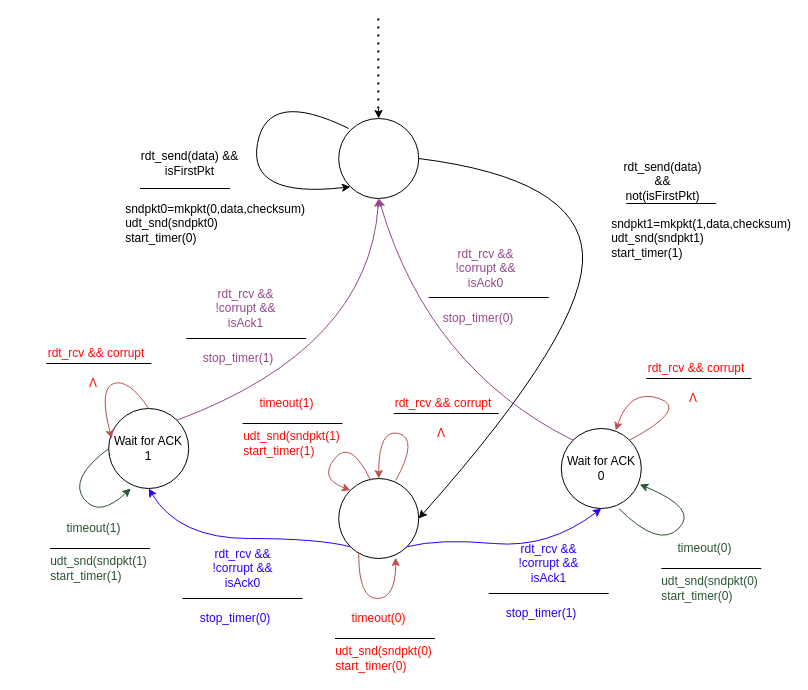
Some shapes in this 808 by 690 pixel diagram are drawn without their labels. The shapes that lost their labels are listed below. From the top down, each one's box as (x1, y1, x2, y2) in pixels, then its label:
(338, 118, 419, 198): Wait for call from above
(338, 478, 419, 558): Wait for ACK 0 || ACK 1
